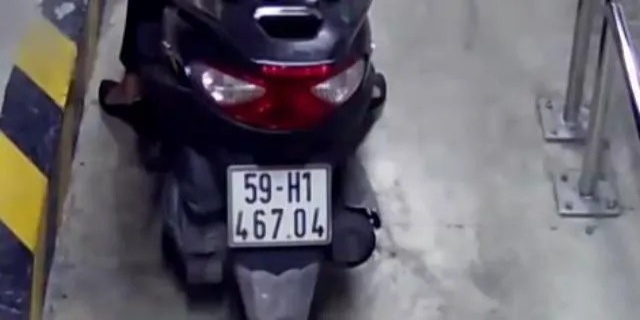bien_so: (228, 163, 332, 246)
